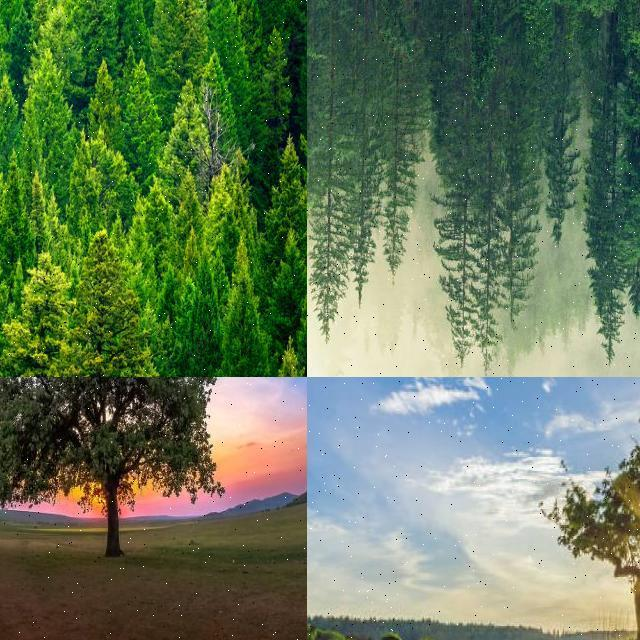tree: (0, 377, 222, 545), (546, 407, 640, 640), (45, 218, 171, 378), (584, 33, 640, 361), (309, 87, 359, 346), (497, 90, 543, 334), (435, 130, 481, 370), (382, 55, 428, 289), (541, 27, 587, 249), (468, 125, 508, 377), (0, 245, 70, 377), (341, 104, 384, 308), (307, 1, 357, 176), (205, 242, 268, 378), (19, 46, 77, 184), (164, 75, 224, 185), (306, 17, 326, 289), (0, 95, 24, 308), (263, 134, 307, 250), (182, 249, 222, 375), (152, 0, 215, 80), (0, 116, 32, 268), (70, 0, 146, 64), (307, 0, 339, 144), (267, 236, 307, 344), (212, 0, 250, 111), (466, 0, 504, 110), (84, 52, 124, 156), (122, 53, 156, 175), (258, 21, 290, 147), (1, 1, 23, 168), (0, 208, 24, 356), (0, 274, 32, 378), (258, 0, 306, 68), (1, 40, 23, 180), (0, 56, 20, 204), (0, 0, 28, 96), (520, 0, 556, 72), (203, 48, 231, 140), (0, 0, 24, 104), (379, 0, 416, 64), (308, 138, 324, 282), (1, 238, 23, 342), (1, 84, 16, 198), (0, 82, 16, 186), (0, 140, 16, 240), (1, 72, 20, 156), (0, 1, 22, 72), (255, 0, 285, 52), (0, 0, 34, 44), (308, 173, 320, 293), (0, 16, 16, 98), (54, 0, 90, 32), (9, 0, 41, 36), (23, 0, 52, 36), (307, 176, 319, 260), (0, 0, 16, 60), (308, 179, 320, 251), (307, 172, 317, 248), (0, 0, 14, 54), (0, 0, 20, 34), (0, 1, 16, 40), (243, 0, 263, 26), (0, 0, 12, 40), (0, 0, 16, 24), (0, 0, 12, 28), (0, 1, 12, 20)
